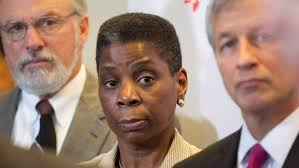person: (94, 11, 189, 148)
